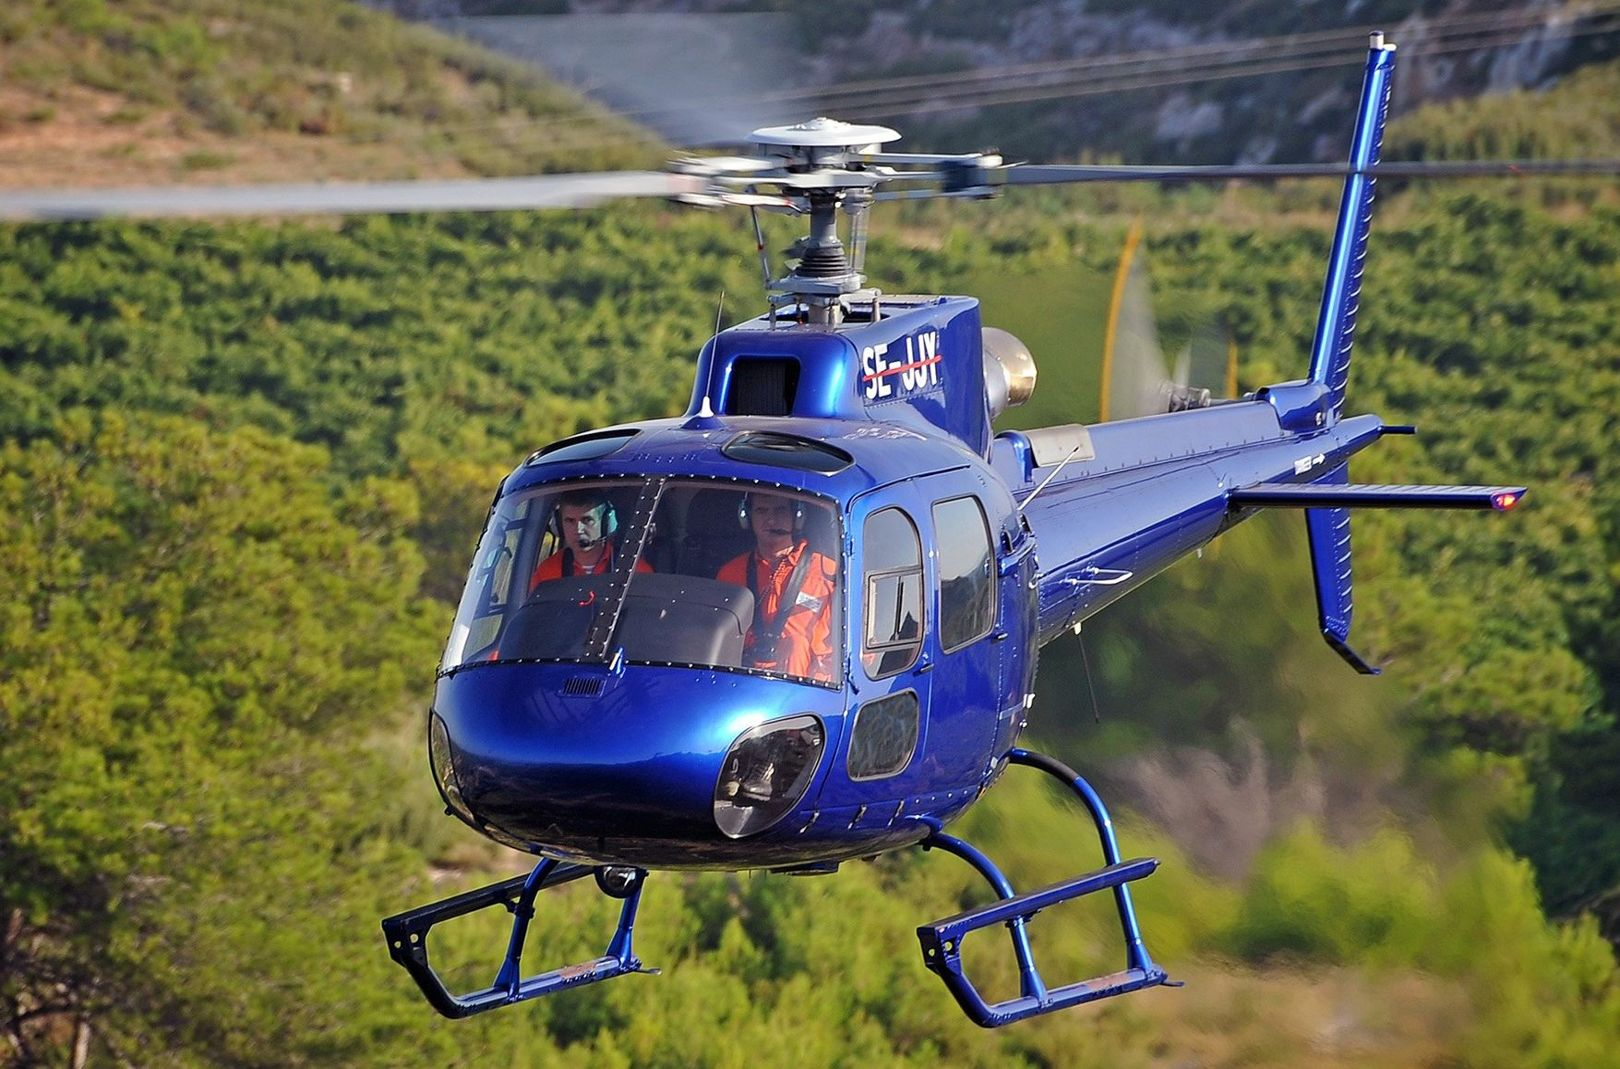Helicopter: (369, 64, 1446, 1008)
